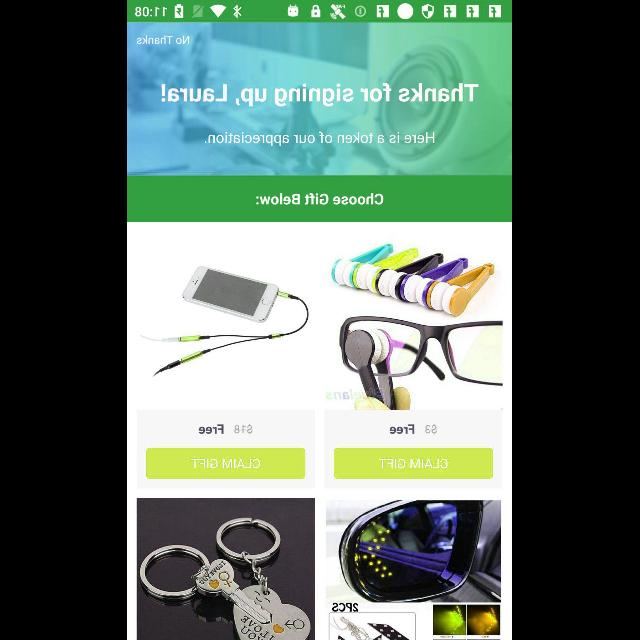image: (325, 244, 495, 411), (137, 498, 315, 640), (326, 500, 502, 640), (140, 266, 310, 378)
text: (162, 82, 480, 108), (206, 132, 436, 146), (256, 193, 384, 205), (137, 35, 190, 45), (390, 424, 416, 434), (200, 424, 224, 434), (234, 424, 253, 434), (426, 424, 438, 434)
textbutton: (334, 448, 494, 479), (147, 448, 306, 479)
uppertaskbar: (128, 1, 512, 23)
